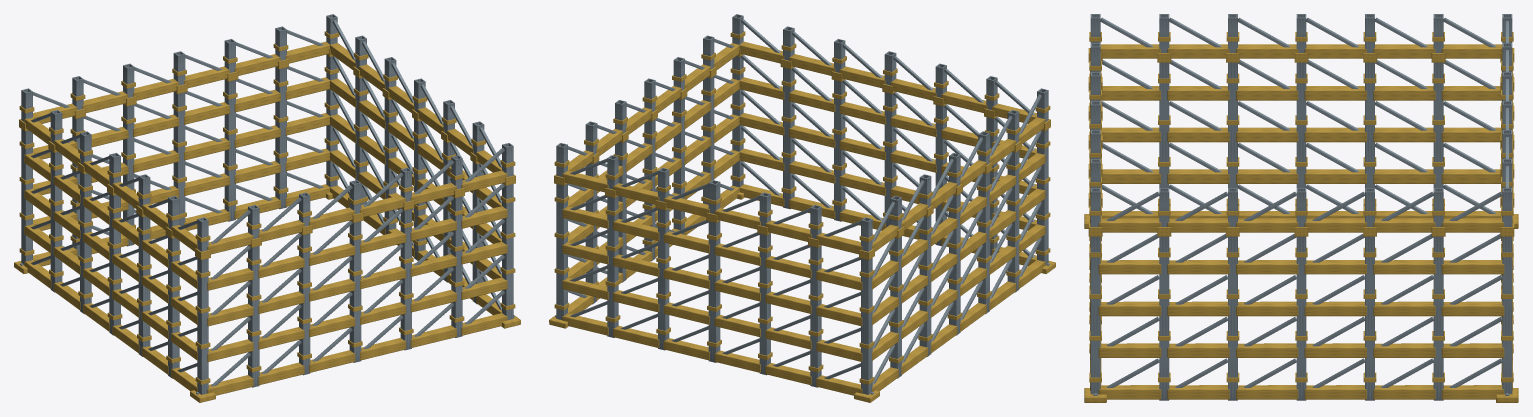
3 renders of one model, left to right at view 1: azimuth 30°, elevation 25°; view 2: azimuth 150°, elevation 25°; view 3: azimuth 270°, elevation 25°, orthographic. The views are drawn at different scales.
Visible parts, largest first — view 1: Tier 0 side 0 post 0, Tier 0 side 0 post 3, Tier 0 side 2 post 1, Tier 0 side 0 post 1, Tier 0 side 1 post 0, Tier 0 side 2 post 2, Tier 0 side 0 post 2, Tier 0 side 0 post 5, Tier 0 side 0 post 4, Tier 0 side 3 post 4, Tier 0 side 3 post 1, Tier 0 side 2 post 3 (+60 smaller); view 2: Tier 0 side 3 post 0, Tier 0 side 2 post 3, Tier 0 side 2 post 5, Tier 0 side 2 post 0, Tier 0 side 2 post 4, Tier 0 side 2 post 1, Tier 0 side 2 post 2, Tier 0 side 0 post 5, Tier 0 side 0 post 4, Tier 0 side 0 post 3, Tier 0 side 3 post 5, Tier 0 side 3 post 2 (+61 smaller); view 3: Tier 0 side 1 post 0, Tier 0 side 2 post 0, Tier 0 side 1 post 1, Tier 0 side 1 post 5, Tier 0 side 1 post 3, Tier 0 side 1 post 2, Tier 0 side 1 post 4, Tier 0 side 3 post 5, Tier 0 side 3 post 1, Tier 0 side 3 post 3, Tier 0 side 3 post 2, Tier 0 side 3 post 4 (+54 smaller).
Part boxes in pixels (x1=…): Tier 0 side 0 post 0: x1=197, y1=258, x2=208, y2=394; Tier 0 side 0 post 3: x1=349, y1=221, x2=361, y2=362; Tier 0 side 2 post 1: x1=275, y1=67, x2=286, y2=209; Tier 0 side 0 post 1: x1=248, y1=246, x2=259, y2=387; Tier 0 side 1 post 0: x1=502, y1=184, x2=513, y2=319; Tier 0 side 2 post 2: x1=224, y1=79, x2=235, y2=221; Tier 0 side 0 post 2: x1=299, y1=233, x2=310, y2=375; Tier 0 side 0 post 5: x1=451, y1=196, x2=462, y2=337; Tier 0 side 0 post 4: x1=400, y1=209, x2=411, y2=350; Tier 0 side 3 post 4: x1=138, y1=215, x2=150, y2=356; Tier 0 side 3 post 1: x1=50, y1=150, x2=62, y2=292; Tier 0 side 2 post 3: x1=173, y1=92, x2=185, y2=225; Tier 0 side 3 post 0: x1=861, y1=258, x2=872, y2=394; Tier 0 side 2 post 3: x1=708, y1=221, x2=720, y2=362; Tier 0 side 2 post 5: x1=810, y1=245, x2=821, y2=387; Tier 0 side 2 post 0: x1=556, y1=183, x2=567, y2=319; Tier 0 side 2 post 4: x1=759, y1=233, x2=770, y2=375; Tier 0 side 2 post 1: x1=607, y1=196, x2=618, y2=337; Tier 0 side 2 post 2: x1=658, y1=208, x2=669, y2=350; Tier 0 side 0 post 5: x1=783, y1=67, x2=794, y2=209; Tier 0 side 0 post 4: x1=834, y1=80, x2=845, y2=221; Tier 0 side 0 post 3: x1=884, y1=92, x2=896, y2=227; Tier 0 side 3 post 5: x1=1007, y1=150, x2=1019, y2=292; Tier 0 side 3 post 2: x1=919, y1=215, x2=931, y2=356; Tier 0 side 1 post 0: x1=1090, y1=236, x2=1100, y2=394; Tier 0 side 2 post 0: x1=1502, y1=236, x2=1512, y2=394; Tier 0 side 1 post 1: x1=1159, y1=236, x2=1169, y2=400; Tier 0 side 1 post 5: x1=1433, y1=236, x2=1443, y2=400; Tier 0 side 1 post 3: x1=1296, y1=236, x2=1306, y2=400; Tier 0 side 1 post 2: x1=1228, y1=236, x2=1237, y2=400; Tier 0 side 1 post 4: x1=1365, y1=236, x2=1374, y2=400; Tier 0 side 3 post 5: x1=1159, y1=62, x2=1169, y2=187; Tier 0 side 3 post 1: x1=1433, y1=62, x2=1443, y2=187; Tier 0 side 3 post 3: x1=1296, y1=62, x2=1306, y2=187; Tier 0 side 3 post 2: x1=1365, y1=62, x2=1374, y2=187; Tier 0 side 3 post 4: x1=1228, y1=62, x2=1237, y2=187.
Size of the model in its own units: 2.85 by 1.51 by 2.85.
Materials: 2 (2 with a texture image).
